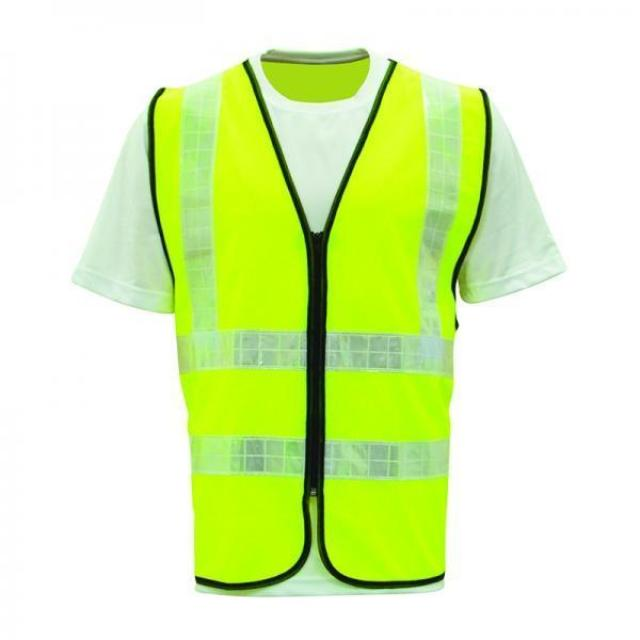Vest: (149, 52, 494, 594)
